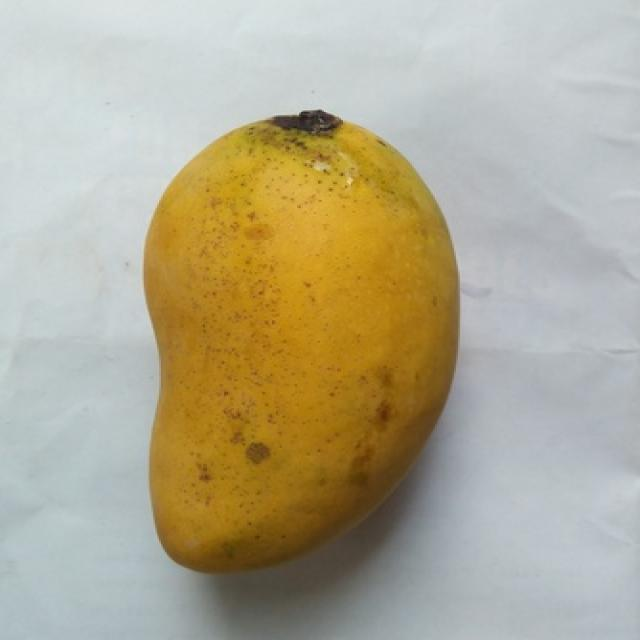Mango: (144, 114, 456, 570)
